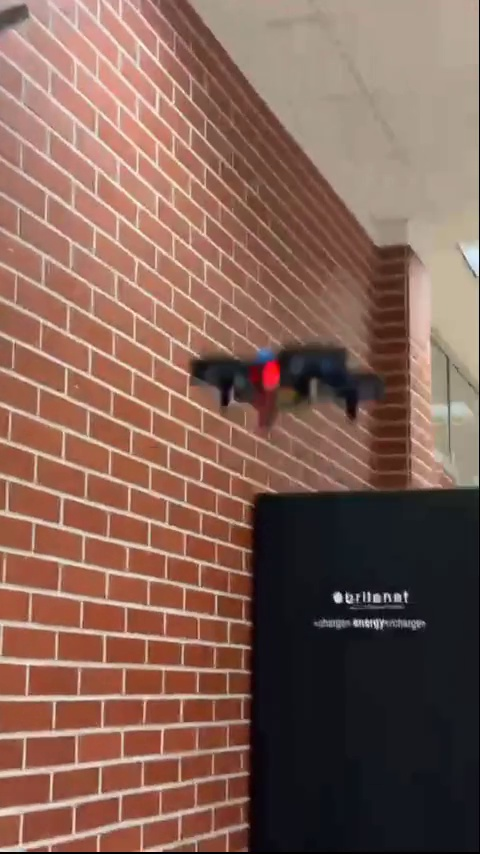drone: (195, 348, 382, 428)
